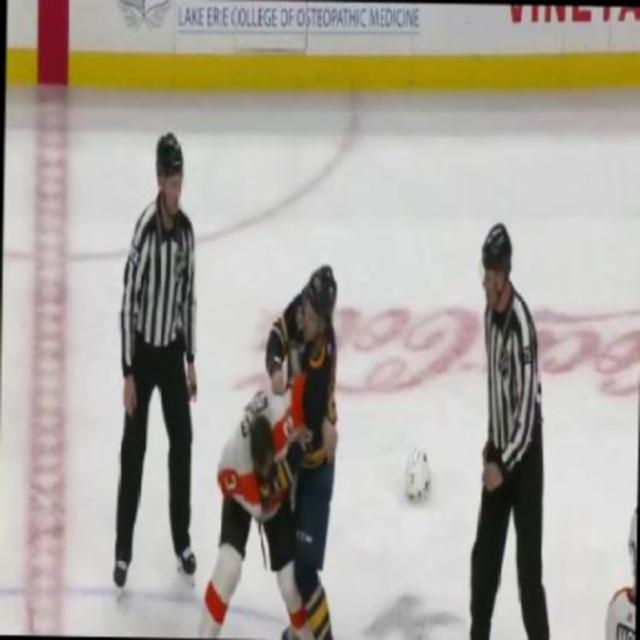fight: (202, 262, 344, 640)
non-fight: (114, 130, 203, 596), (468, 220, 558, 638)
